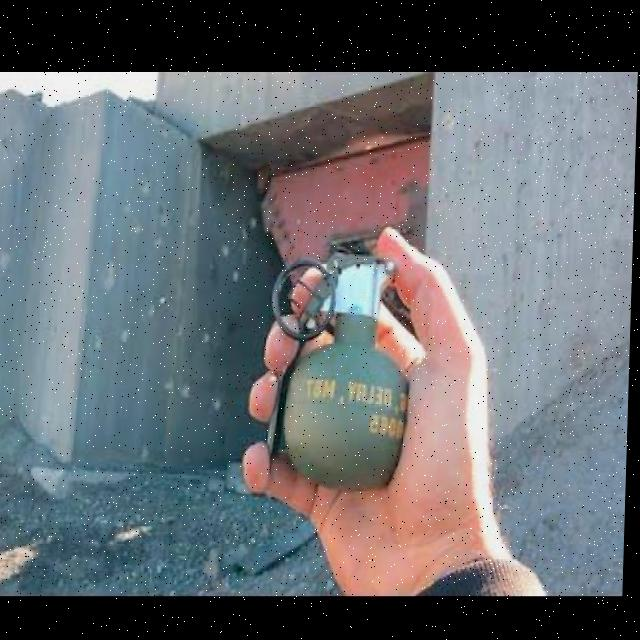grenade: (258, 218, 410, 501)
